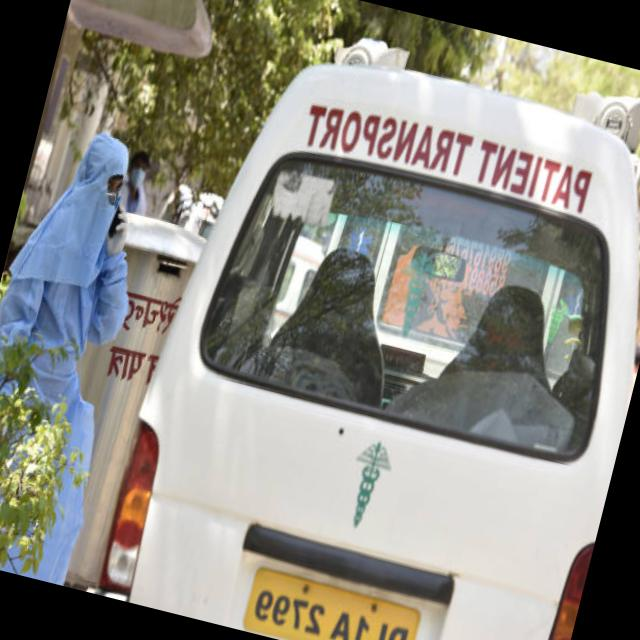ambulance: (273, 72, 612, 258), (320, 420, 412, 554)
